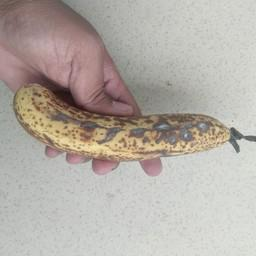Bad_banana: (7, 78, 249, 166)
